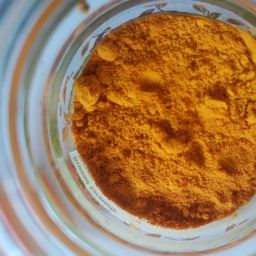Turmeric dried: (73, 9, 256, 227), (132, 42, 242, 190)
